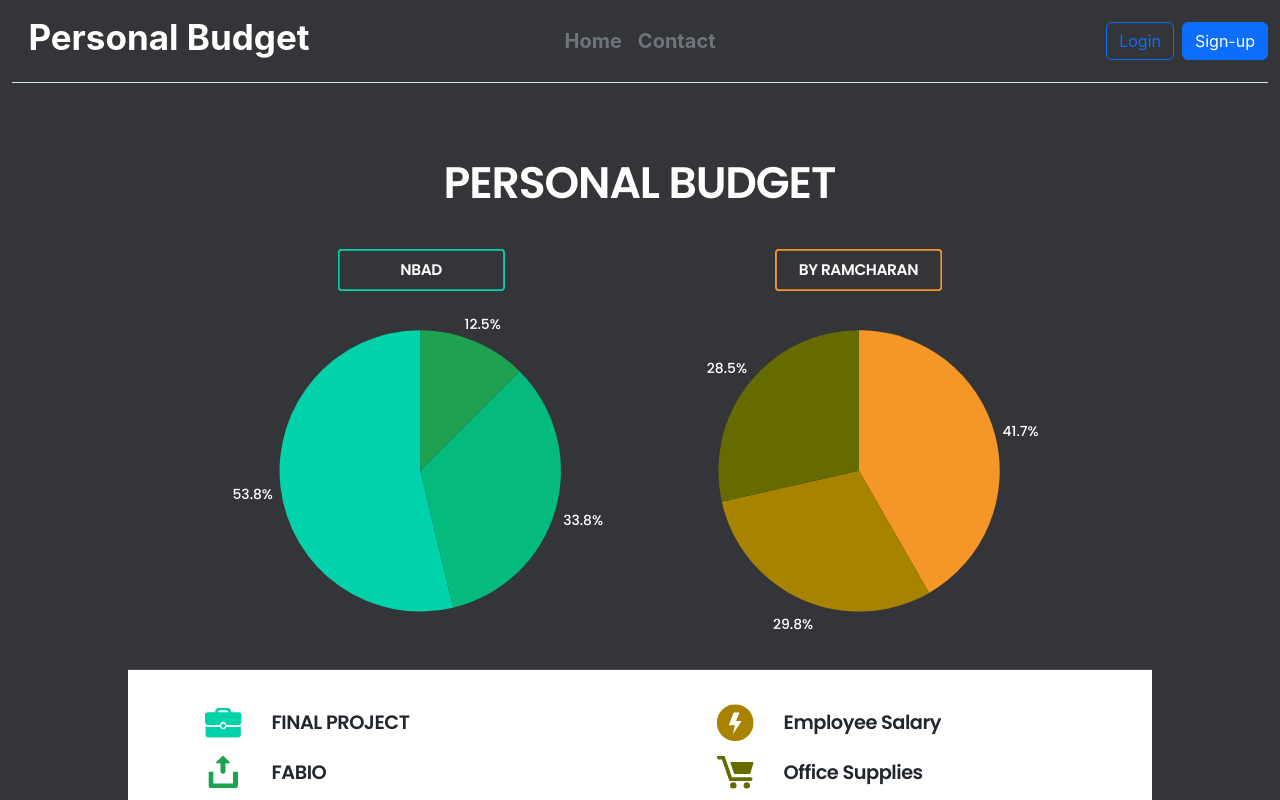
Test: Login feature testing › Should open login page
The image size is (1280, 800).
Click the button with class "login" at (1140, 41), box x1=1106 y1=22 x2=1174 y2=60
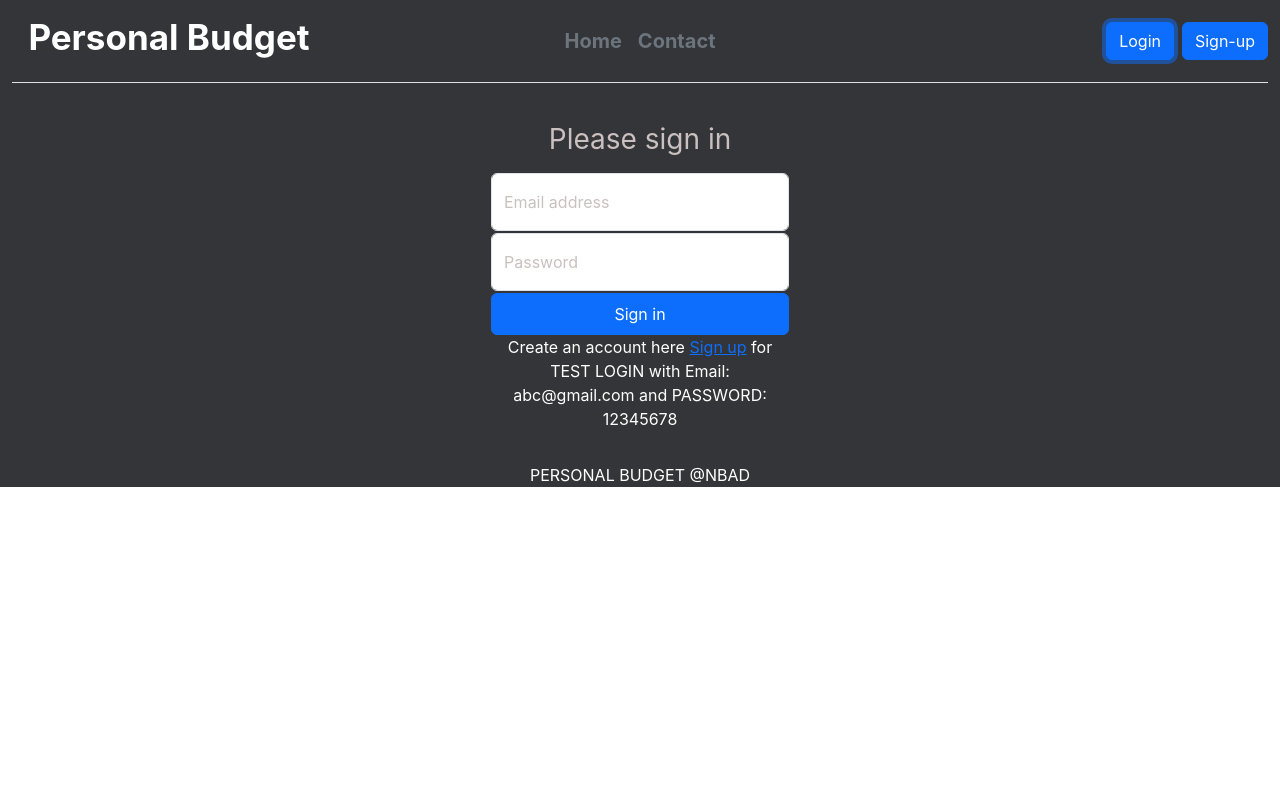
Expected: the heading "Please sign in" is shown, x1=549 y1=122 x2=731 y2=156
